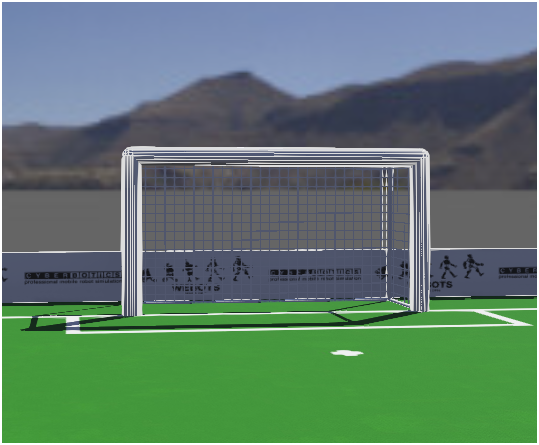Goal: (70, 131, 481, 355)
